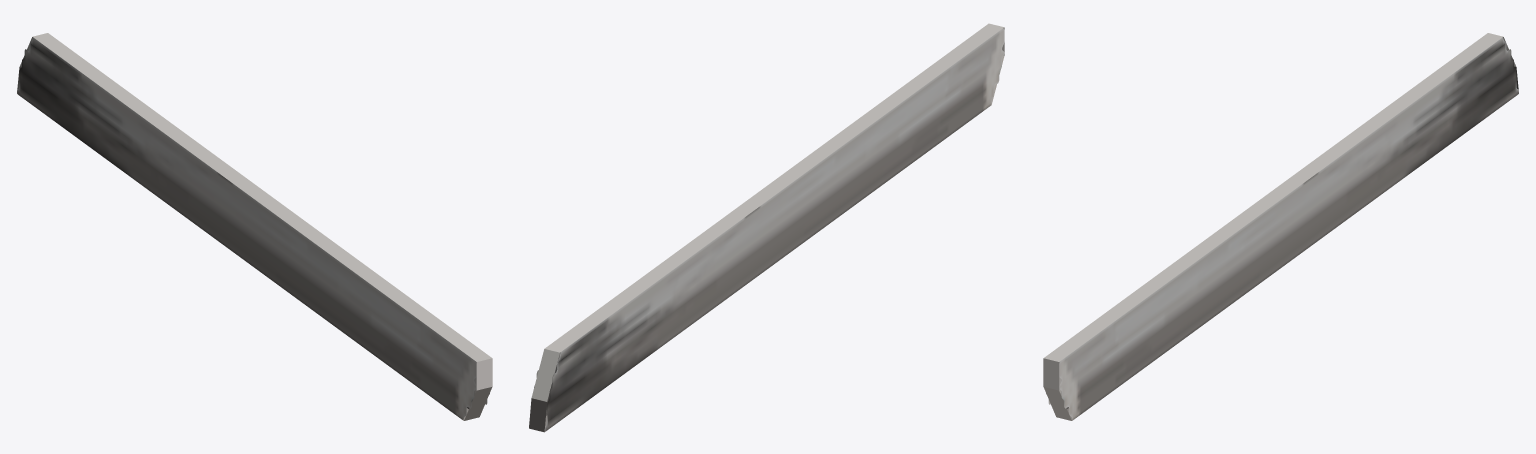
The model's file is pz_native_fixtures_railings_01_76_frame.obj.
The picture shows the model from 3 angles, left to right: view 1: azimuth 30°, elevation 25°; view 2: azimuth 150°, elevation 25°; view 3: azimuth 330°, elevation 25°; orthographic projection.
Visible parts, largest first — view 1: pz_native_fixtures_railings_01_76_frame; view 2: pz_native_fixtures_railings_01_76_frame; view 3: pz_native_fixtures_railings_01_76_frame.
Part boxes in pixels (x1,y1,x2,y2): pz_native_fixtures_railings_01_76_frame: (17, 33, 492, 420); pz_native_fixtures_railings_01_76_frame: (529, 23, 1004, 432); pz_native_fixtures_railings_01_76_frame: (1043, 33, 1518, 420).
Bounding box in the file's own units: 0.045 × 0.2188 × 2.32.
1 material, 1 textured.
